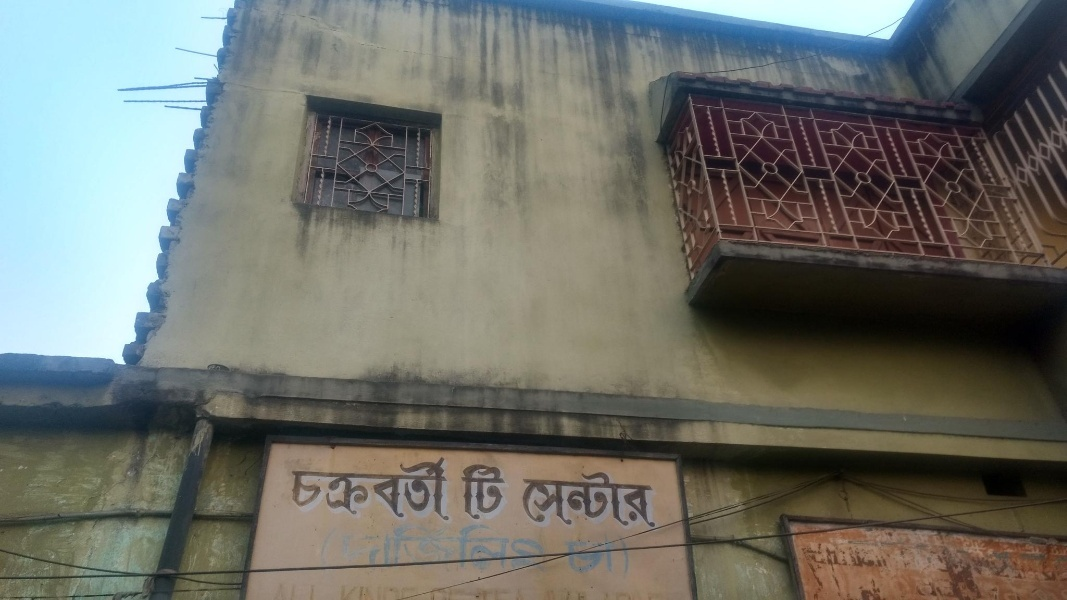text: (305, 454, 320, 524), (321, 454, 336, 524), (337, 454, 352, 524), (353, 454, 368, 524), (369, 454, 384, 524), (385, 454, 400, 524), (401, 454, 416, 524), (417, 454, 432, 524), (433, 454, 448, 524), (641, 469, 657, 529), (529, 469, 544, 529), (545, 469, 560, 529), (561, 469, 576, 529), (577, 469, 592, 529), (593, 469, 608, 529), (609, 469, 624, 529), (625, 469, 640, 529), (465, 464, 480, 522), (481, 464, 496, 522), (353, 521, 368, 577), (369, 521, 384, 577), (385, 521, 400, 577), (401, 521, 416, 577), (417, 521, 432, 577), (433, 521, 448, 577), (449, 521, 464, 577), (465, 521, 480, 577), (481, 521, 496, 577), (497, 521, 512, 577), (513, 521, 528, 577), (529, 521, 544, 577), (293, 454, 304, 524), (577, 529, 592, 575), (593, 529, 608, 575), (497, 464, 507, 522), (609, 529, 621, 575), (565, 529, 576, 575), (521, 469, 528, 529), (545, 521, 550, 577), (461, 464, 464, 522), (349, 521, 352, 577), (449, 454, 451, 524)
